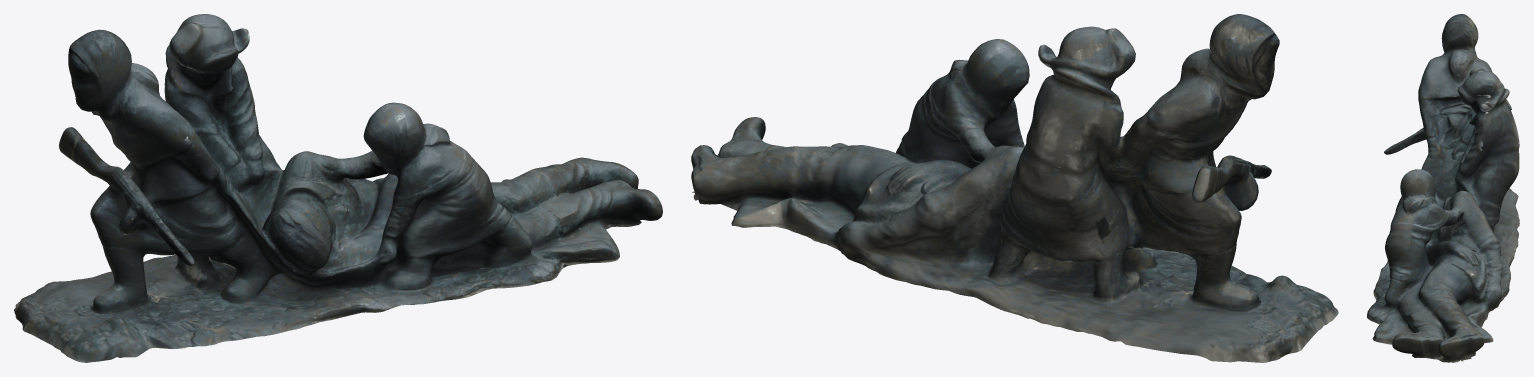
The model's file is children.glb.
The picture shows the model from 3 angles, left to right: view 1: azimuth 30°, elevation 25°; view 2: azimuth 150°, elevation 25°; view 3: azimuth 270°, elevation 25°; orthographic projection. The views are drawn at different scales.
Parts seen in each view (by area): view 1: Children; view 2: Children; view 3: Children.
Part boxes in pixels (left/top/right/bottom): Children: left=14, top=14, right=662, bottom=362; Children: left=691, top=14, right=1338, bottom=362; Children: left=1367, top=14, right=1519, bottom=362.
Size of the model in its own units: 0.8787 by 0.4126 by 0.3088.
Materials: 1 (1 with a texture image).
